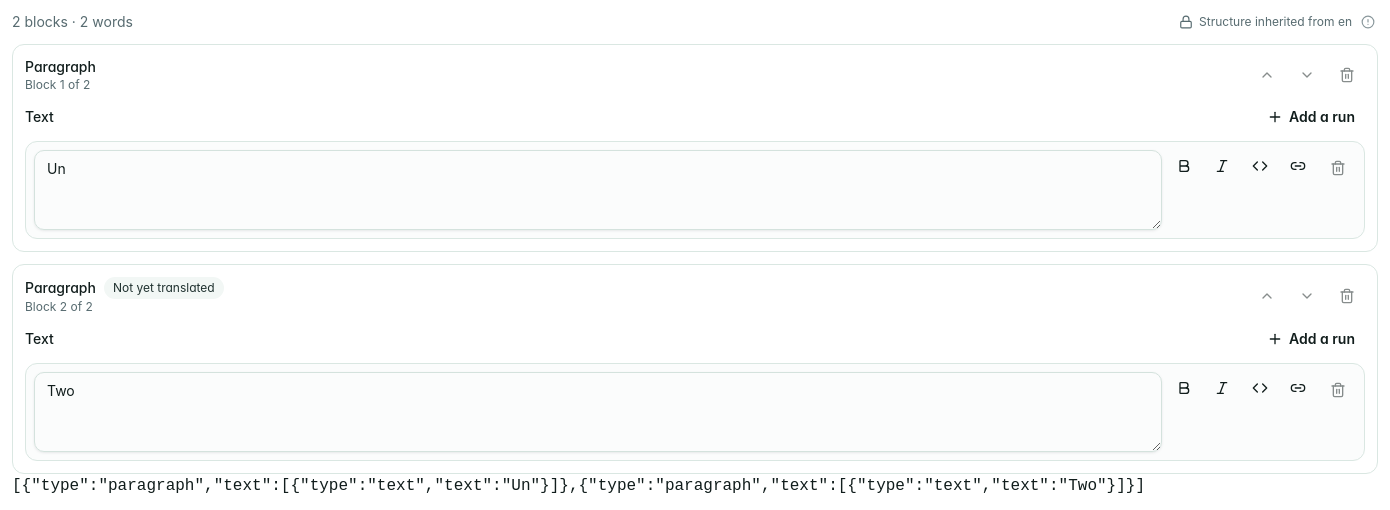
a language that inherits its structure › flags a block that still reads as the driver, and clears it on the first edit
This screenshot has width=1390, height=510.
Expected: the text "Not yet translated" is shown once, [104,277,224,299]
Type "x" into the text box named "text run 1" below "Not yet translated" at (598,412), box [34,372,1162,452]
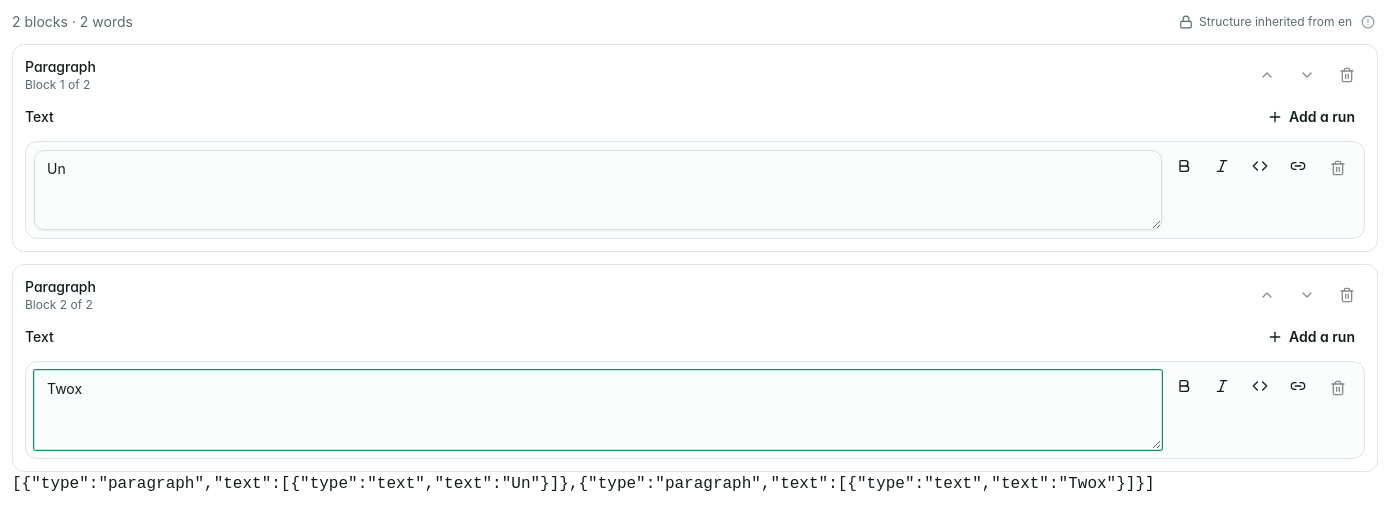
Expected: the text "Not yet translated" is gone
